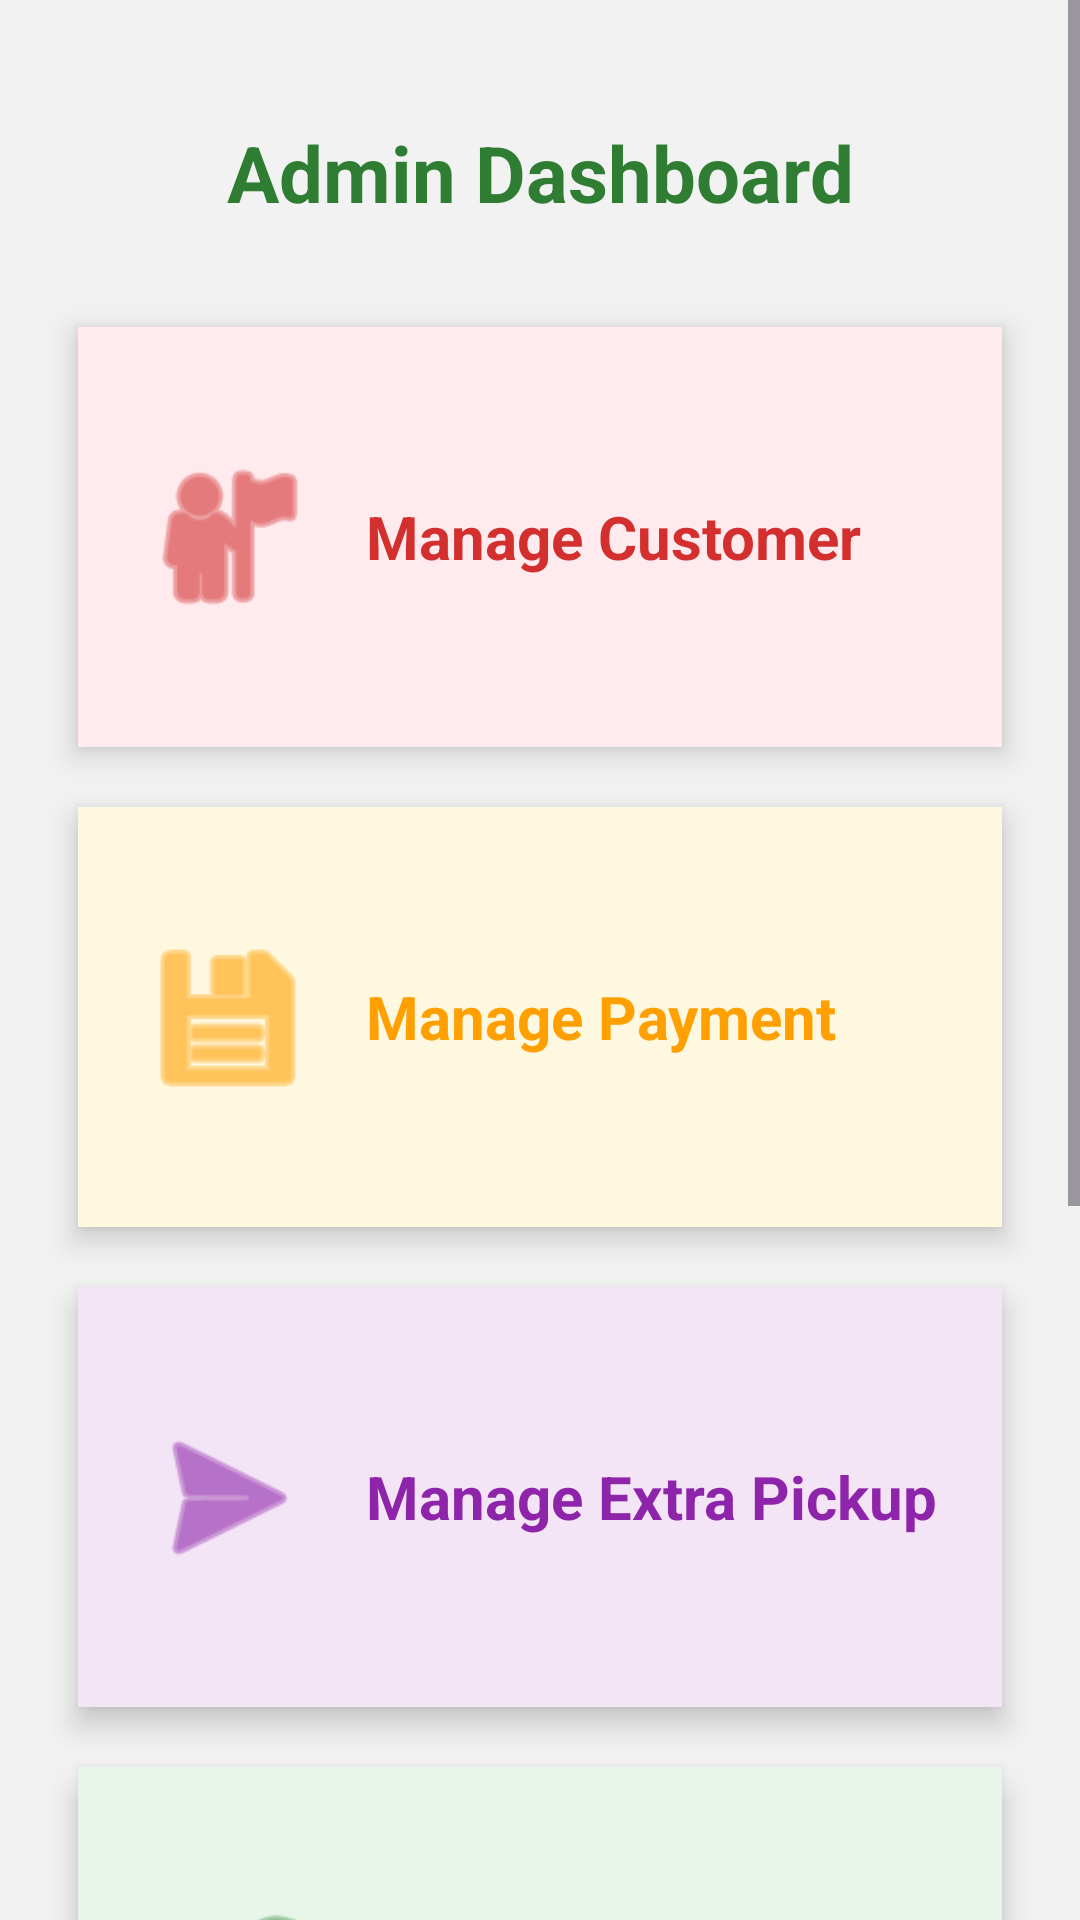

Named icons in this screenshot (1080 × 1920) and their bounding boxes, Rect(x1, y1, x2, y2):
myplaces: Rect(162, 470, 298, 604)
save: Rect(160, 949, 296, 1087)
send: Rect(172, 1441, 287, 1555)
